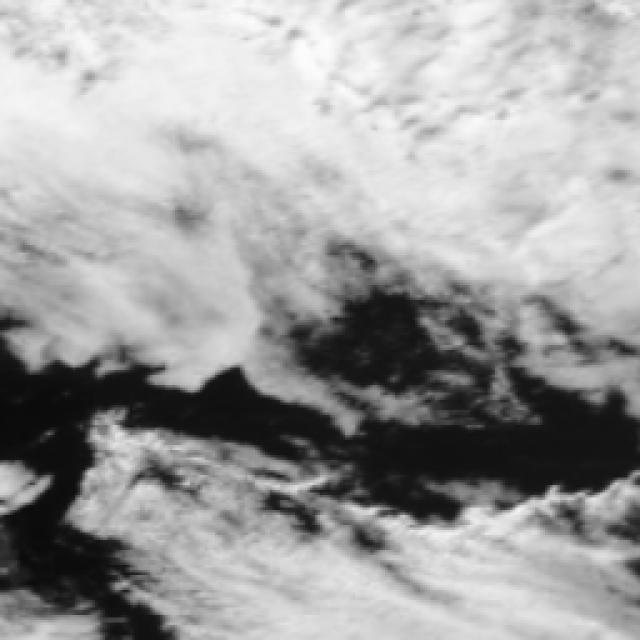CB: (39, 24, 325, 186)
